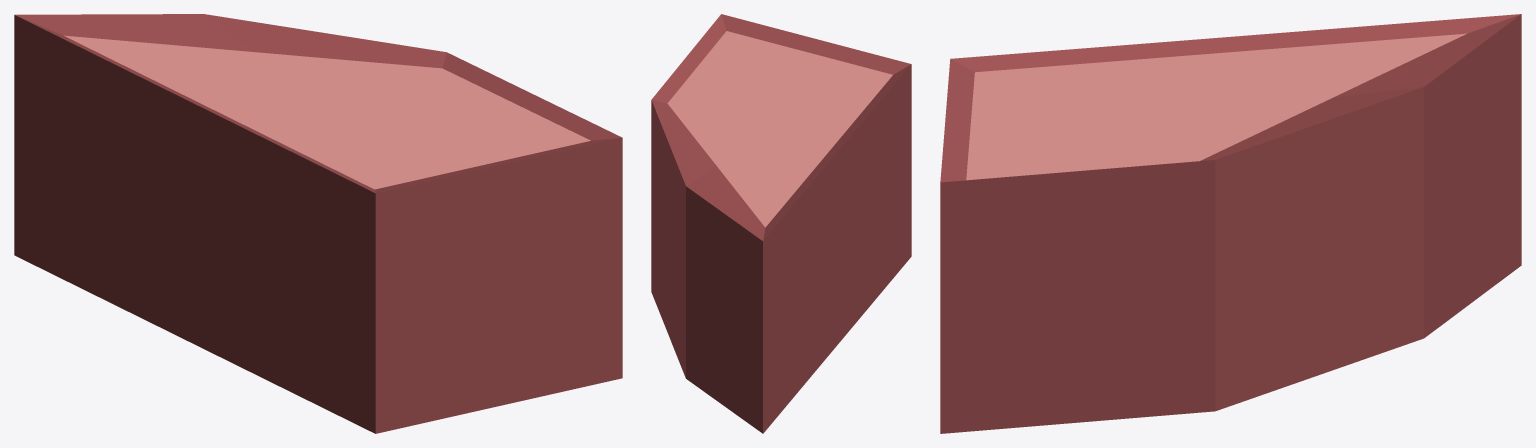
Rendered from meja.glb.
3 renders of one model, left to right at view 1: azimuth 30°, elevation 25°; view 2: azimuth 150°, elevation 25°; view 3: azimuth 270°, elevation 25°, orthographic. The views are drawn at different scales.
Parts seen in each view (by area): view 1: Cube; view 2: Cube; view 3: Cube.
Boxes of the visible parts, x1=… form: Cube: x1=14, y1=14, x2=622, y2=433; Cube: x1=651, y1=14, x2=911, y2=433; Cube: x1=940, y1=14, x2=1521, y2=433.
Size of the model in its own units: 3.28 by 2.28 by 4.78.
